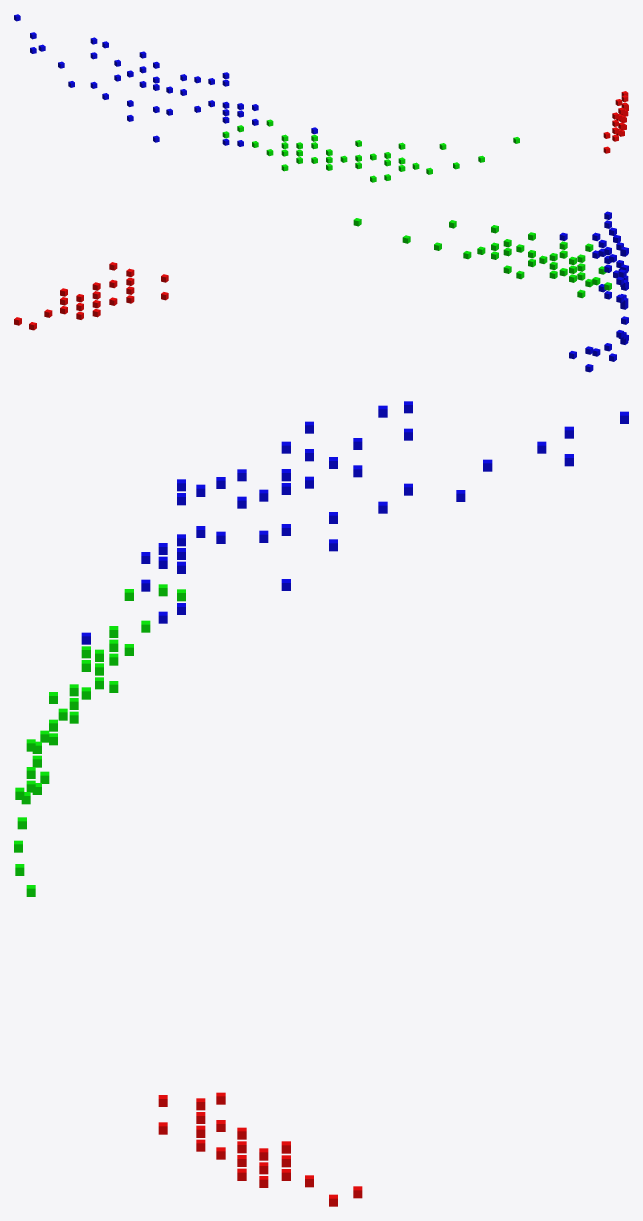
The model's file is blue.dae.
3 renders of one model, top to bottom at view 1: azimuth 30°, elevation 25°; view 2: azimuth 150°, elevation 25°; view 3: azimuth 270°, elevation 25°, orthographic. The views are drawn at different scales.
Bounding box in the file's own units: 7.65 × 4.06 × 2.46.
